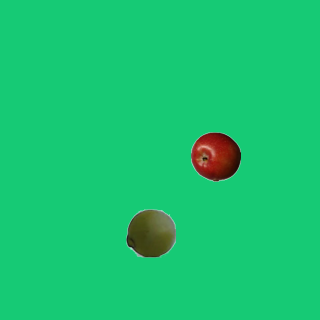Apple Braeburn: (190, 131, 240, 181)
Grape White 4: (125, 207, 175, 257)
